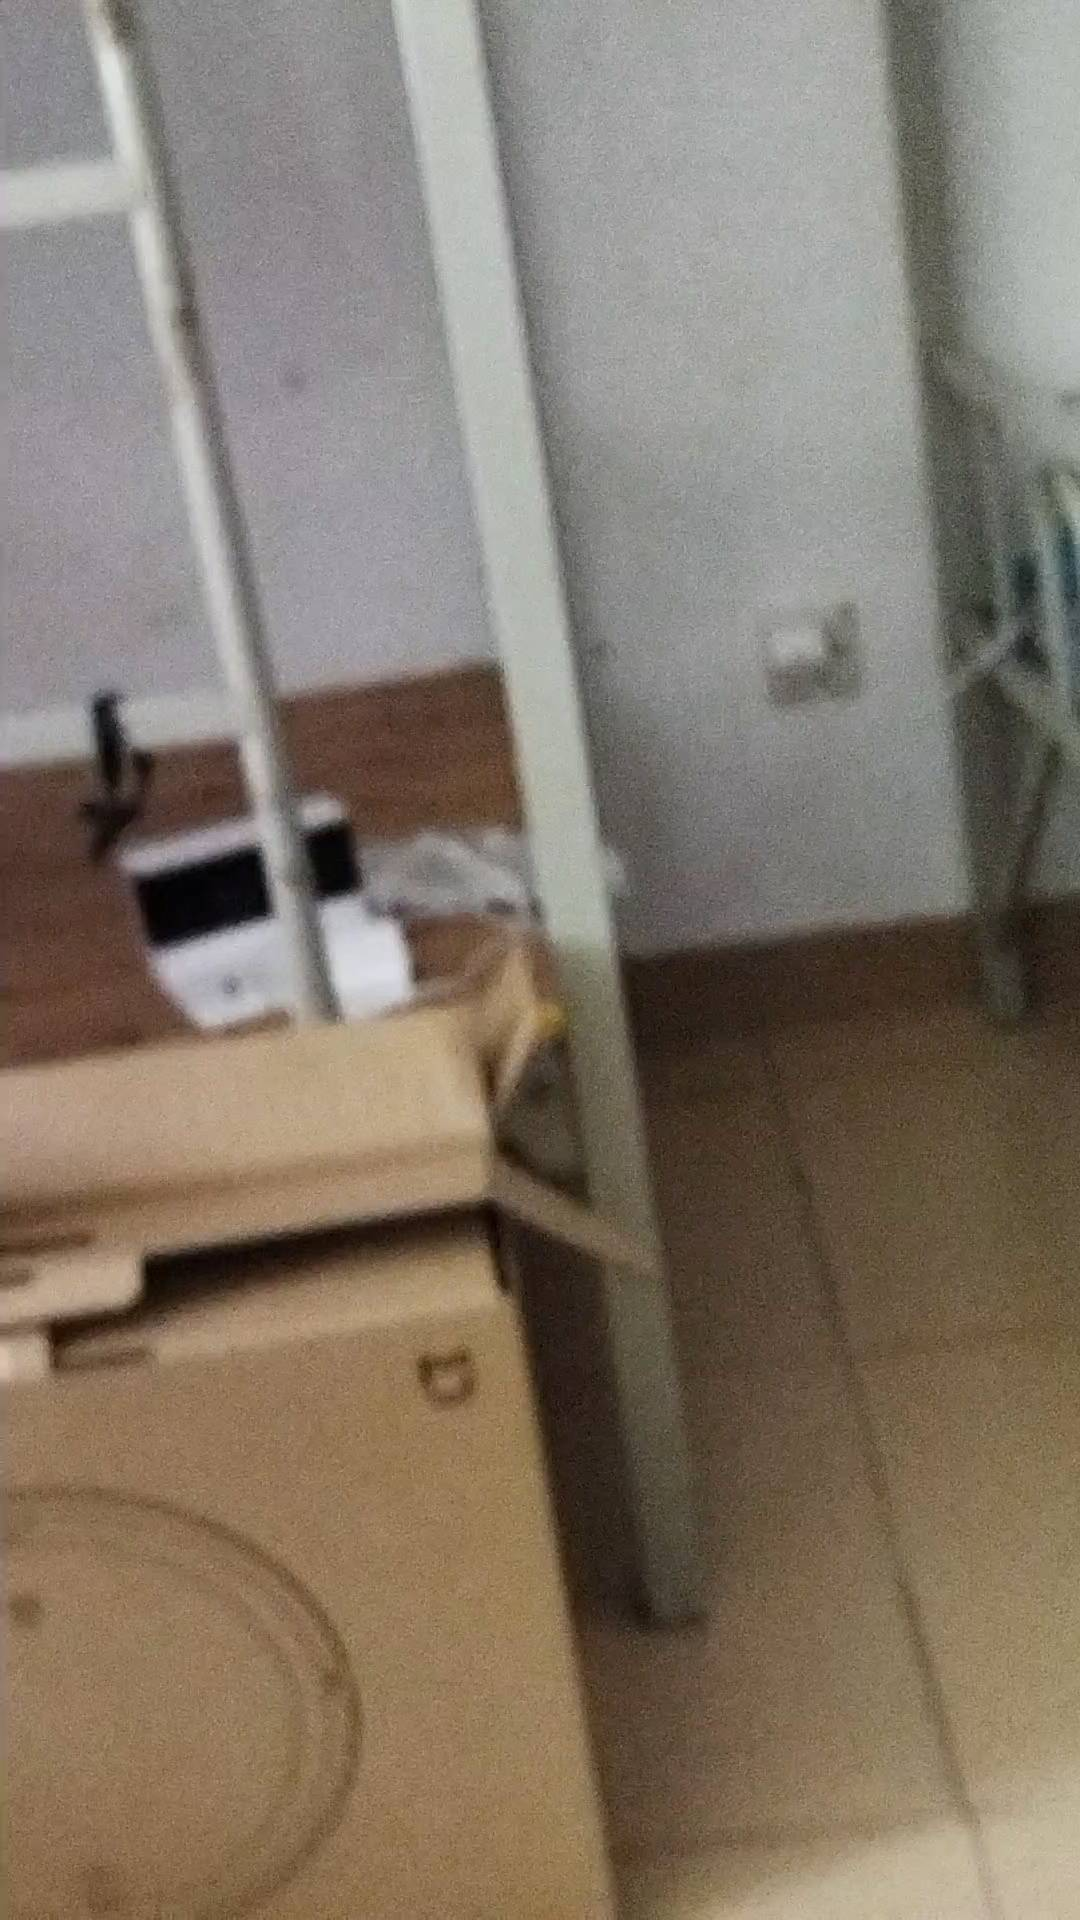recharge seat: (123, 794, 371, 1035)
